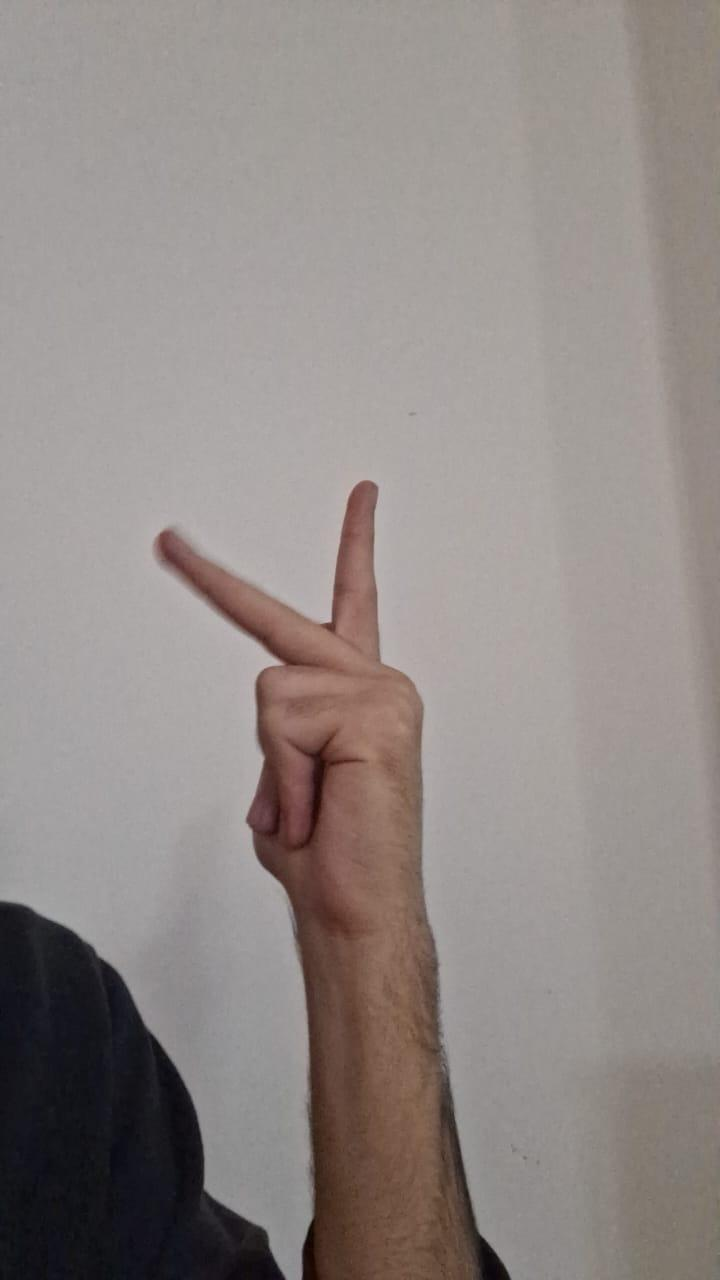K: (149, 469, 441, 935)
